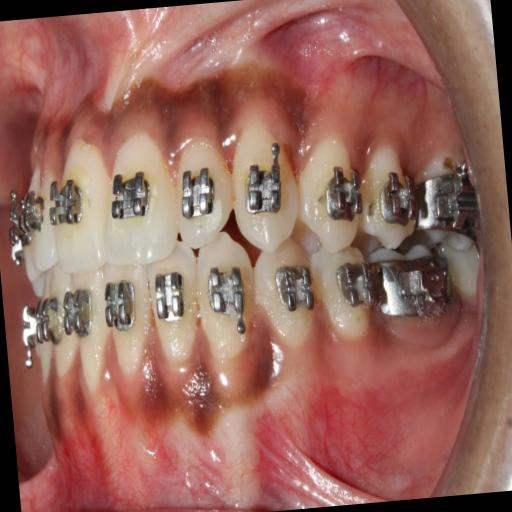correct_brace: (295, 129, 366, 252), (175, 161, 226, 223), (238, 162, 287, 220), (46, 170, 88, 230), (110, 170, 154, 224), (206, 268, 250, 322)
incorrect_brace: (170, 131, 236, 246), (320, 156, 365, 234)
